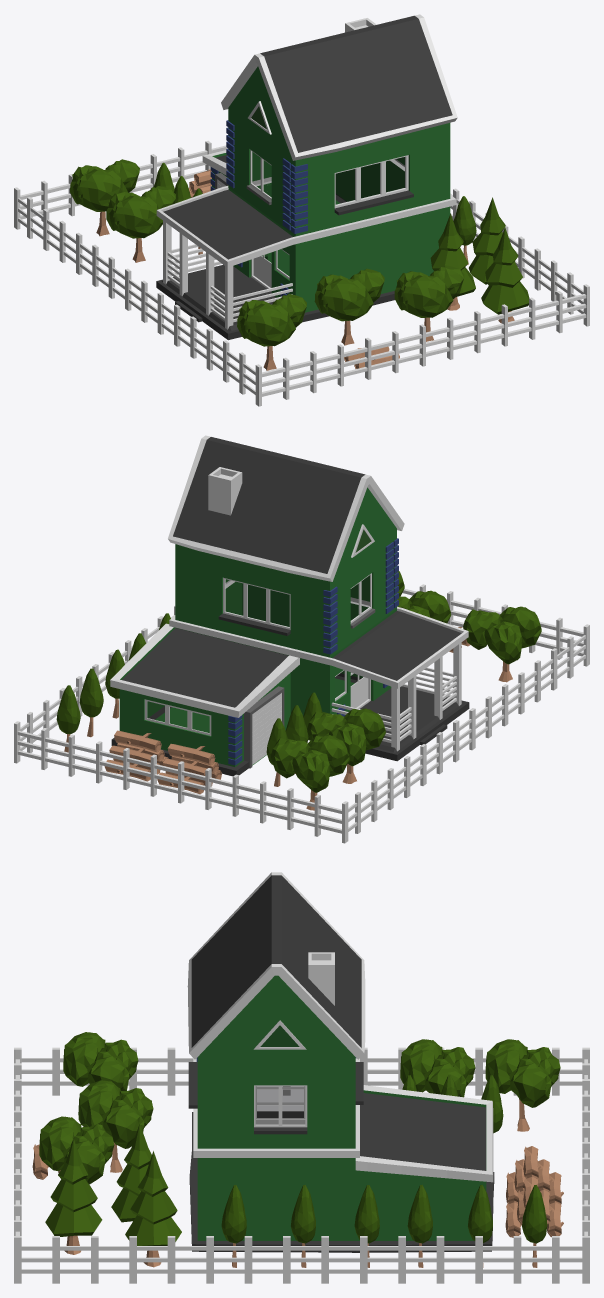
Rendered from z.002_lev3.glb.
3 views of the same model, one above another, from view 1: azimuth 30°, elevation 25°; view 2: azimuth 150°, elevation 25°; view 3: azimuth 270°, elevation 25° (orthographic). The views are drawn at different scales.
Visible parts, largest first — view 1: z.002_lev3; view 2: z.002_lev3; view 3: z.002_lev3.
Boxes of the visible parts, x1,y1,x2,y2 form: z.002_lev3: (14,14,589,406); z.002_lev3: (14,435,589,843); z.002_lev3: (14,872,589,1283).
Size of the model in its own units: 8.97 by 6.26 by 11.49.
12 materials, 1 textured.
